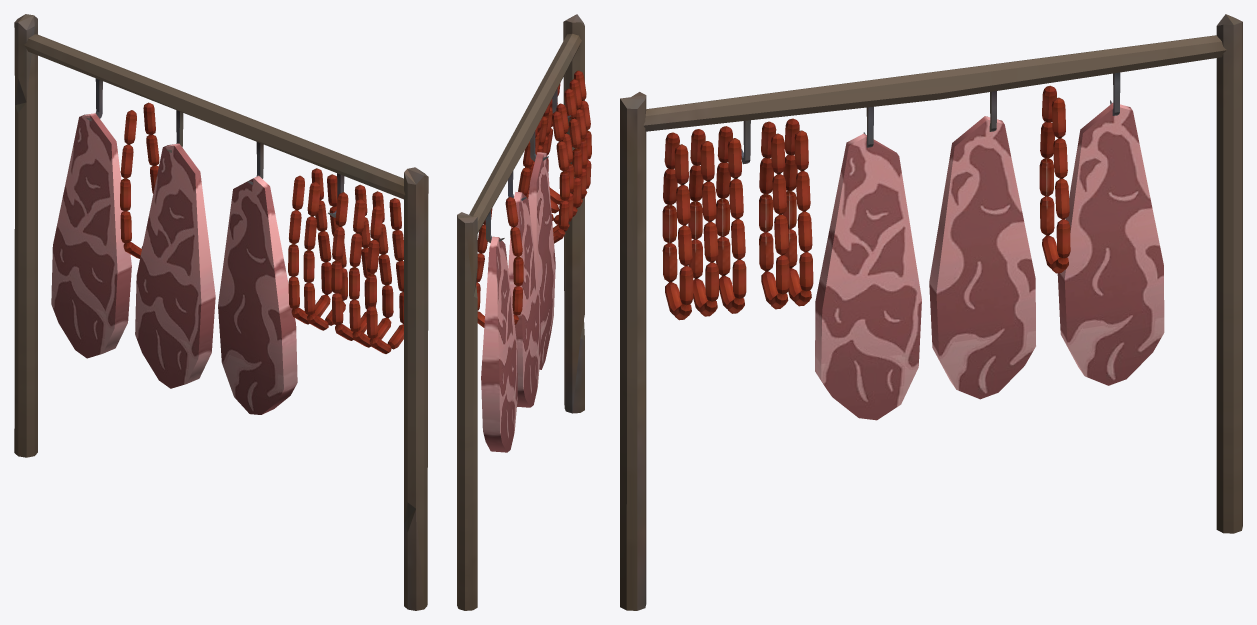
File: meats.glb
3 renders of one model, left to right at view 1: azimuth 30°, elevation 25°; view 2: azimuth 150°, elevation 25°; view 3: azimuth 270°, elevation 25°, orthographic. The views are drawn at different scales.
Visible parts, largest first — view 1: object 10, big_meat, big_meat (2), big_meat (1), sausages_hanging (1), sausages_hanging (5), sausages_hanging (4), sausages_hanging (2), sausages_hanging, sausages_hanging (3); view 2: object 10, big_meat (2), big_meat, big_meat (1), sausages_hanging, sausages_hanging (1), sausages_hanging (3), sausages_hanging (5), sausages_hanging (4), sausages_hanging (2); view 3: object 10, big_meat (1), big_meat, big_meat (2), sausages_hanging (4), sausages_hanging, sausages_hanging (2), sausages_hanging (3), sausages_hanging (5), sausages_hanging (1).
Boxes of the visible parts, bbox=[...] form: object 10: bbox=[14, 14, 428, 610]; big_meat: bbox=[135, 143, 215, 388]; big_meat (2): bbox=[51, 113, 131, 358]; big_meat (1): bbox=[218, 175, 297, 414]; sausages_hanging (1): bbox=[288, 168, 331, 324]; sausages_hanging (5): bbox=[349, 191, 393, 347]; sausages_hanging (4): bbox=[366, 198, 403, 353]; sausages_hanging (2): bbox=[303, 174, 347, 330]; sausages_hanging: bbox=[120, 102, 159, 258]; sausages_hanging (3): bbox=[331, 184, 375, 340]; object 10: bbox=[457, 14, 584, 610]; big_meat (2): bbox=[481, 236, 517, 452]; big_meat: bbox=[508, 192, 540, 407]; big_meat (1): bbox=[528, 152, 555, 369]; sausages_hanging: bbox=[476, 197, 523, 327]; sausages_hanging (1): bbox=[518, 111, 569, 243]; sausages_hanging (3): bbox=[528, 88, 582, 224]; sausages_hanging (5): bbox=[541, 79, 587, 213]; sausages_hanging (4): bbox=[546, 70, 591, 204]; sausages_hanging (2): bbox=[525, 103, 574, 232]; object 10: bbox=[620, 14, 1242, 610]; big_meat (1): bbox=[815, 133, 921, 420]; big_meat: bbox=[929, 116, 1035, 399]; big_meat (2): bbox=[1057, 103, 1164, 385]; sausages_hanging (4): bbox=[662, 132, 693, 320]; sausages_hanging: bbox=[1039, 85, 1070, 273]; sausages_hanging (2): bbox=[759, 121, 789, 309]; sausages_hanging (3): bbox=[715, 126, 746, 313]; sausages_hanging (5): bbox=[688, 129, 718, 316]; sausages_hanging (1): bbox=[782, 118, 813, 306].
Size of the model in its own units: 0.7018 by 1.79 by 1.99.
Materials: 1 (1 with a texture image).
